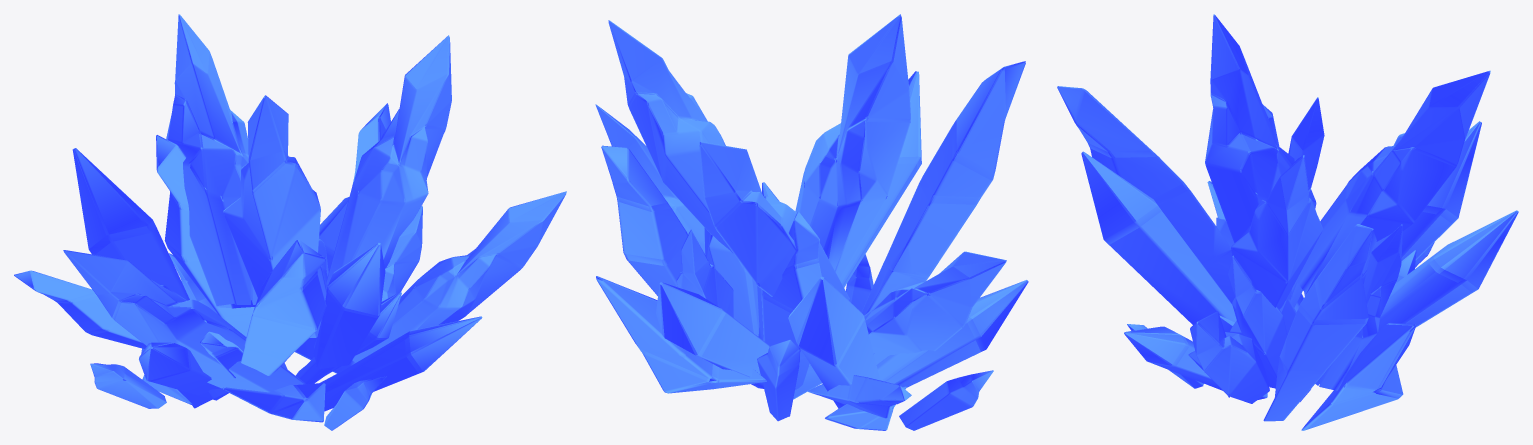
The model's file is 6-shuijing.FBX.
3 renders of one model, left to right at view 1: azimuth 30°, elevation 25°; view 2: azimuth 150°, elevation 25°; view 3: azimuth 270°, elevation 25°, orthographic. The views are drawn at different scales.
Parts seen in each view (by area): view 1: Object248; view 2: Object248; view 3: Object248.
Part boxes in pixels (x1,y1,x2,y2): Object248: (14,14,566,430); Object248: (595,14,1028,430); Object248: (1057,14,1518,430).
Size of the model in its own units: 0.8755 by 0.6588 by 0.7801.
